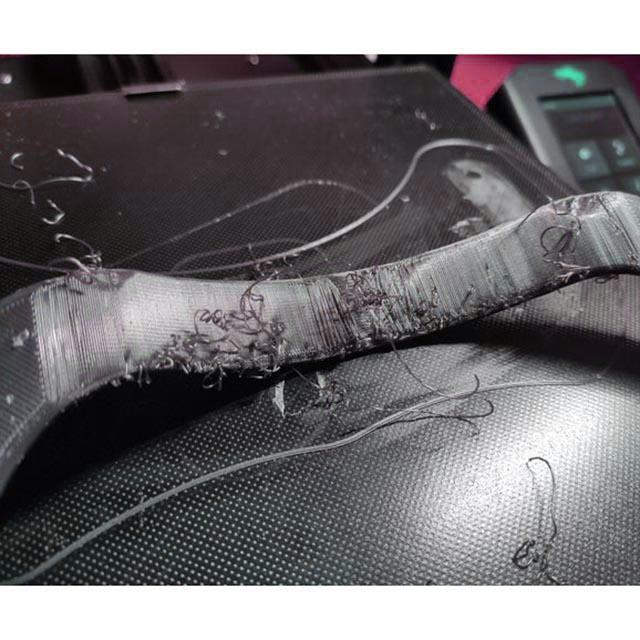Spaghetti: (126, 276, 290, 392), (314, 278, 442, 352), (533, 189, 596, 287), (282, 359, 349, 419), (46, 227, 104, 286), (242, 242, 298, 288), (470, 292, 530, 318)
